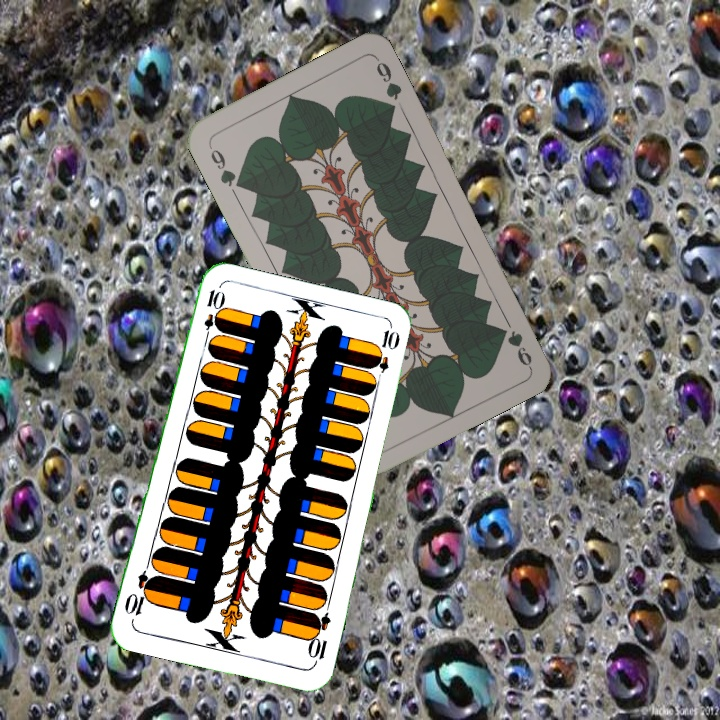E10: (303, 609, 334, 668), (199, 285, 223, 345)
G9: (204, 141, 246, 191), (504, 326, 535, 369)
